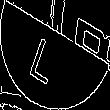L_NE: (37, 26, 73, 84)
